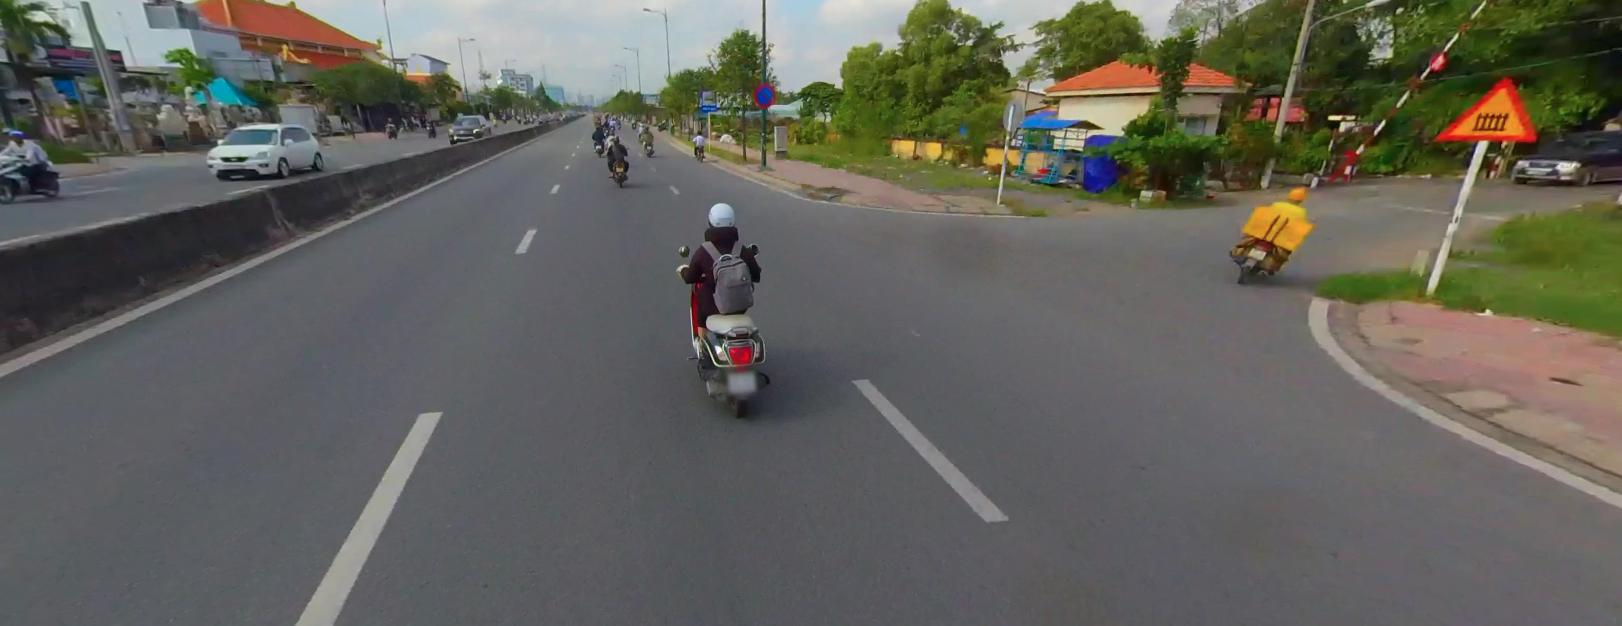Cam dung va do: (753, 83, 774, 106)
Nguy hiem: (1433, 74, 1538, 142)
